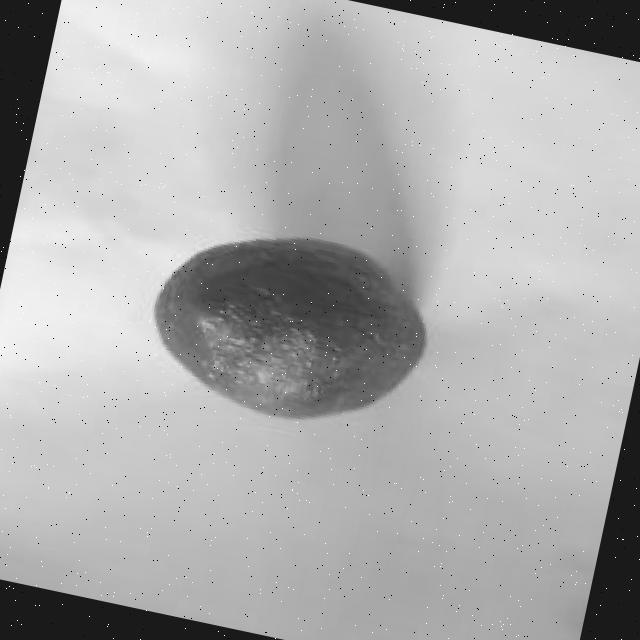overripe: (132, 201, 446, 448)
